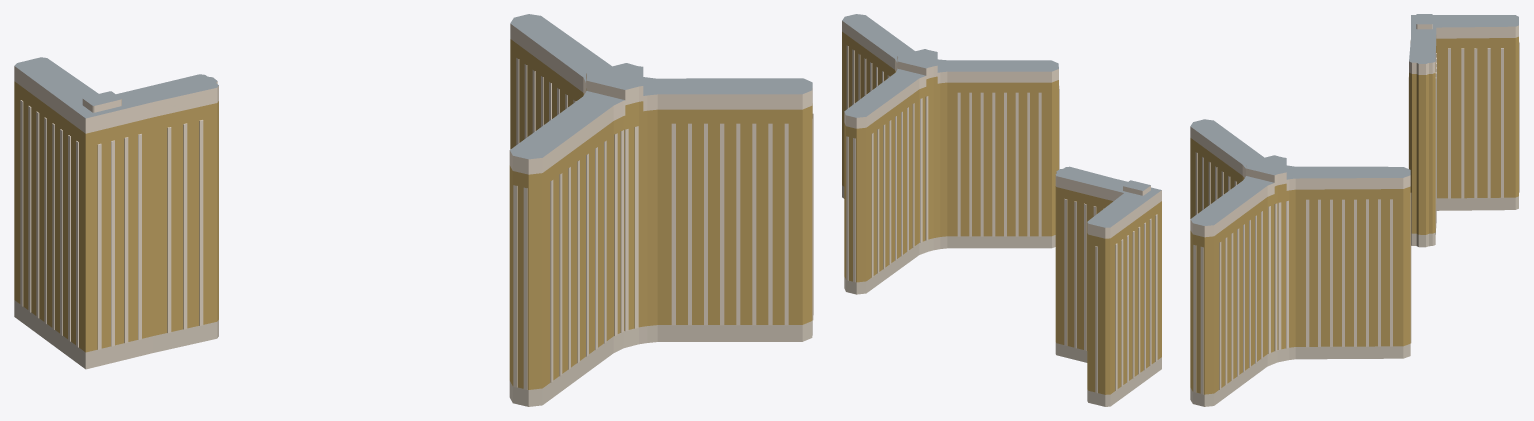
File: lv-mandalay-bay.glb
3 views of the same model, side by side, from view 1: azimuth 30°, elevation 25°; view 2: azimuth 150°, elevation 25°; view 3: azimuth 270°, elevation 25° (orthographic). The views are drawn at different scales.
Visible parts, largest first — view 1: Mandalay Bay; view 2: Mandalay Bay; view 3: Mandalay Bay.
Part boxes in pixels (left/top/right/bottom): Mandalay Bay: left=14, top=14, right=813, bottom=406; Mandalay Bay: left=842, top=14, right=1161, bottom=406; Mandalay Bay: left=1190, top=14, right=1519, bottom=406.
Size of the model in its own units: 362 by 152 by 241.
